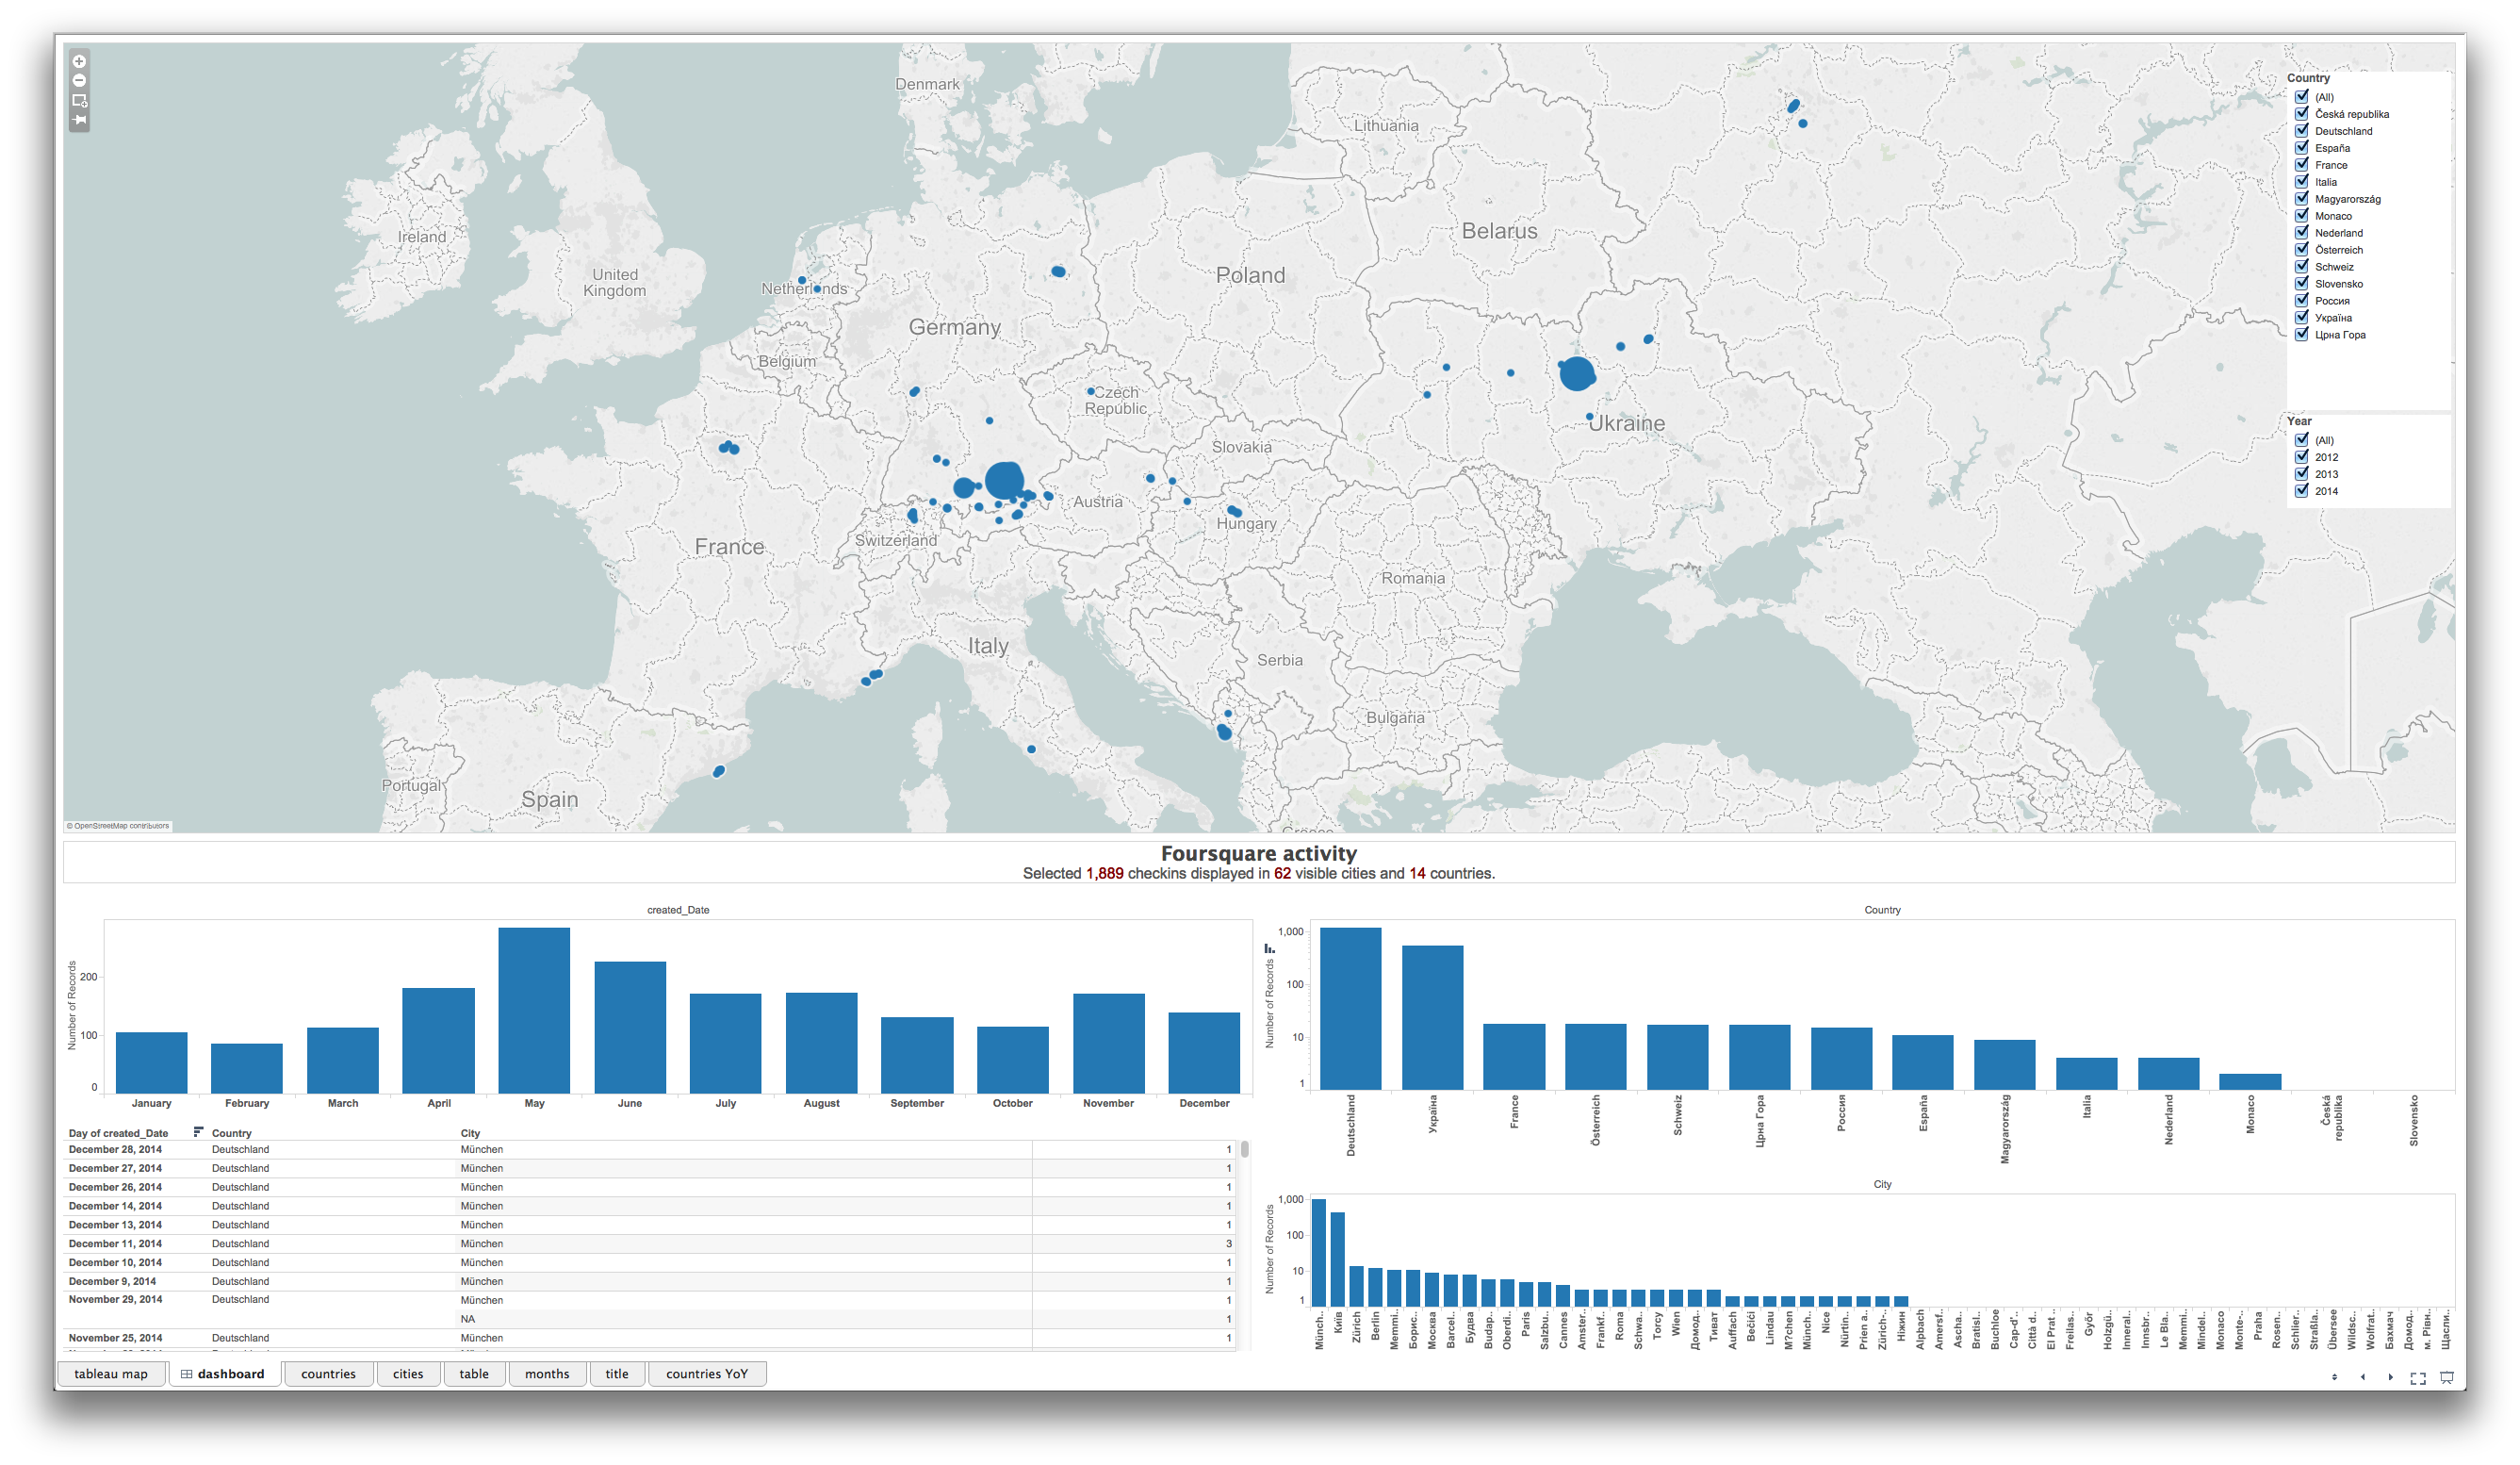

This screenshot's page, from the dashboard's own definition file:
{"tool":"tableau","page":{"name":"dashboard","canvas":[1000,1000],"units":"permille","ordinal":0},"visuals":[{"type":"worksheet","title":"tableau map","mark":"Automatic","rows":["lat"],"cols":["lng"],"box":[0,0,1000,605.6]},{"type":"filter","title":"cities","param":"[textscan.42000.057679490700].[none:country:nk]","box":[927,27.9,67.9,215.1]},{"type":"filter","title":"tableau map","param":"[textscan.42000.057679490700].[none:year:ok]","box":[926.5,257,67.9,64.5]},{"type":"worksheet","title":"title","mark":"Automatic","box":[0,605.6,1000,45]},{"type":"worksheet","title":"months","mark":"Bar","rows":["Number of Records"],"cols":["Calculation_2471226194948260"],"box":[0,650.6,499.2,166.6]},{"type":"worksheet","title":"countries","mark":"Automatic","rows":["Number of Records"],"cols":["country"],"box":[499.2,650.6,499.2,206.7]},{"type":"worksheet","title":"table","mark":"Automatic","rows":["Calculation_2471226194948260","country","city"],"box":[0,817.2,499.2,182.8]},{"type":"worksheet","title":"cities","mark":"Automatic","rows":["Number of Records"],"cols":["city"],"box":[499.2,857.3,499.2,142.7]}]}

Visuals, with their boxes on the dashboard's canvas, which has no fixed pixel size, in thousandths of its width and height (x1, y1, x2, y2). These are canvas units, not pixel positions in the 2520x1465 screenshot, which may show the page scaled, cropped or inside an application window:
"tableau map" worksheet: rect(0, 0, 1000, 606)
"cities" filter: rect(927, 28, 995, 243)
"tableau map" filter: rect(926, 257, 994, 322)
"title" worksheet: rect(0, 606, 1000, 651)
"months" worksheet (Bar marks): rect(0, 651, 499, 817)
"countries" worksheet: rect(499, 651, 998, 857)
"table" worksheet: rect(0, 817, 499, 1000)
"cities" worksheet: rect(499, 857, 998, 1000)
